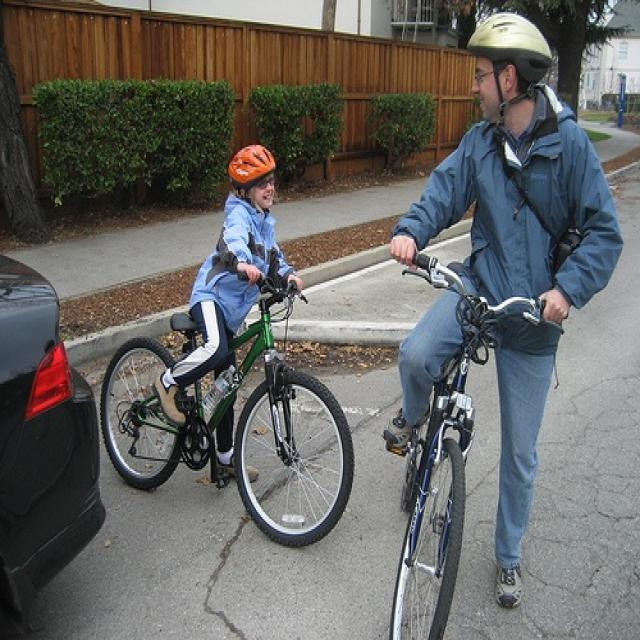bicycle: (97, 266, 357, 550), (381, 247, 566, 638)
